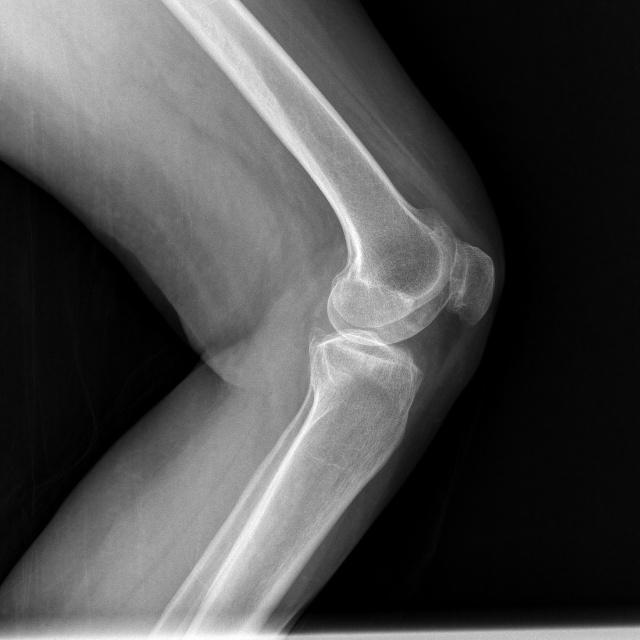Knee: (296, 231, 498, 399)
